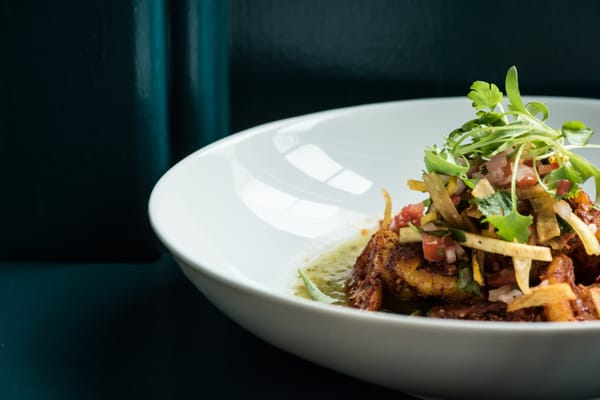sushi: (148, 90, 599, 392)
